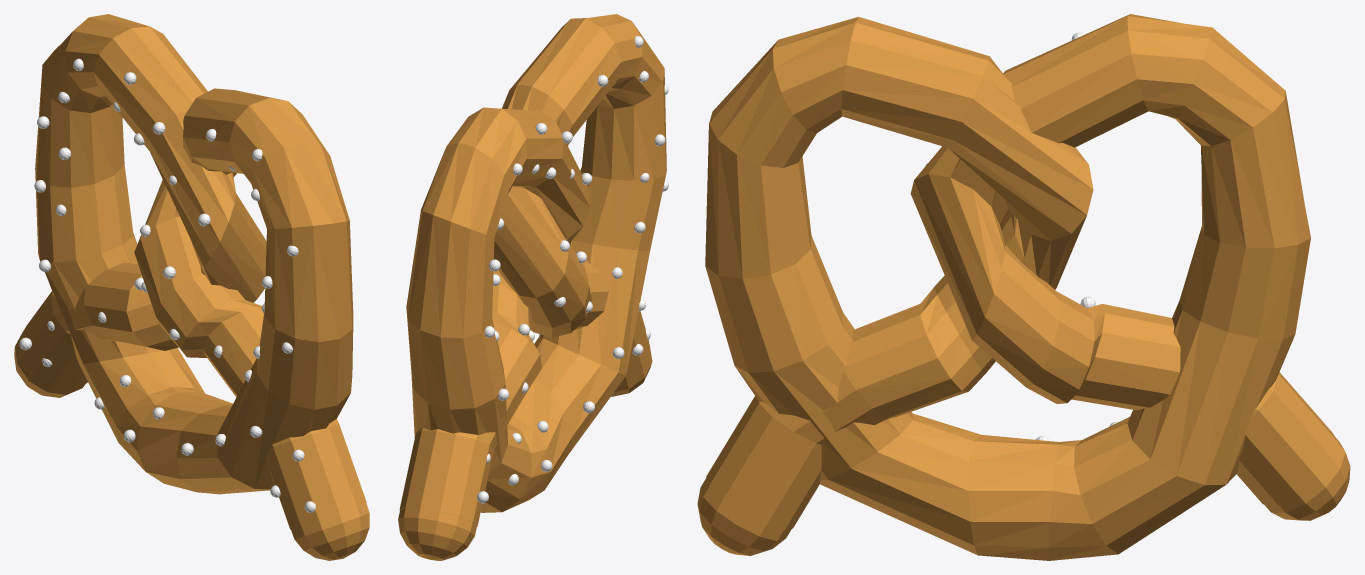
Rendered from Pretzel.glb.
3 renders of one model, left to right at view 1: azimuth 30°, elevation 25°; view 2: azimuth 150°, elevation 25°; view 3: azimuth 270°, elevation 25°, orthographic. The views are drawn at different scales.
Parts seen in each view (by area): view 1: Node; view 2: Node; view 3: Node.
Part boxes in pixels (box(x1,y1,x2,y2)): Node: box(14, 14, 369, 560); Node: box(398, 14, 668, 560); Node: box(697, 14, 1350, 560).
Bounding box in the file's own units: 0.236 × 0.76 × 0.839.
